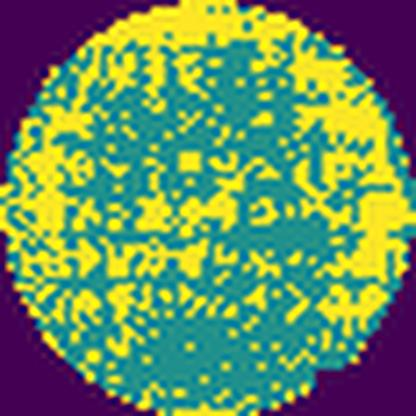Random: (0, 0, 416, 362)
